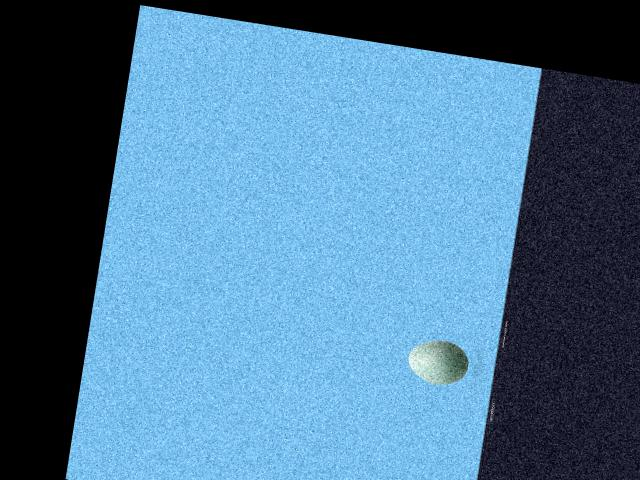egg: (405, 334, 471, 388)
